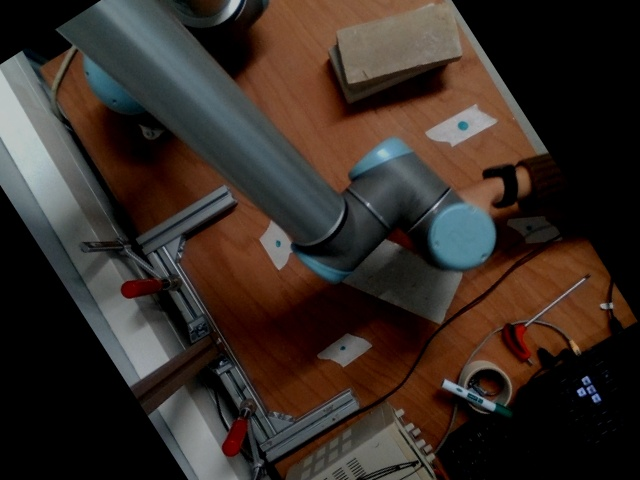brick: (338, 4, 463, 83)
